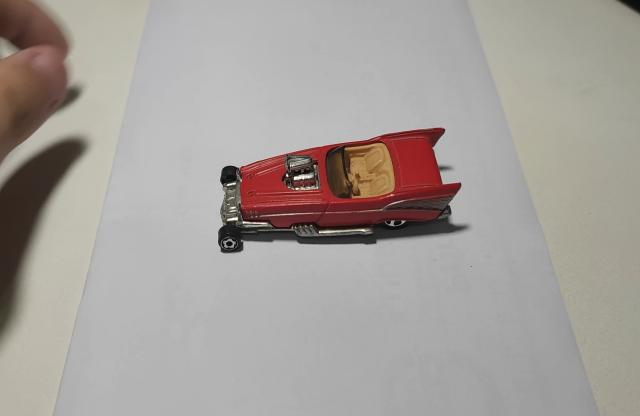03_V8: (217, 128, 461, 255)
